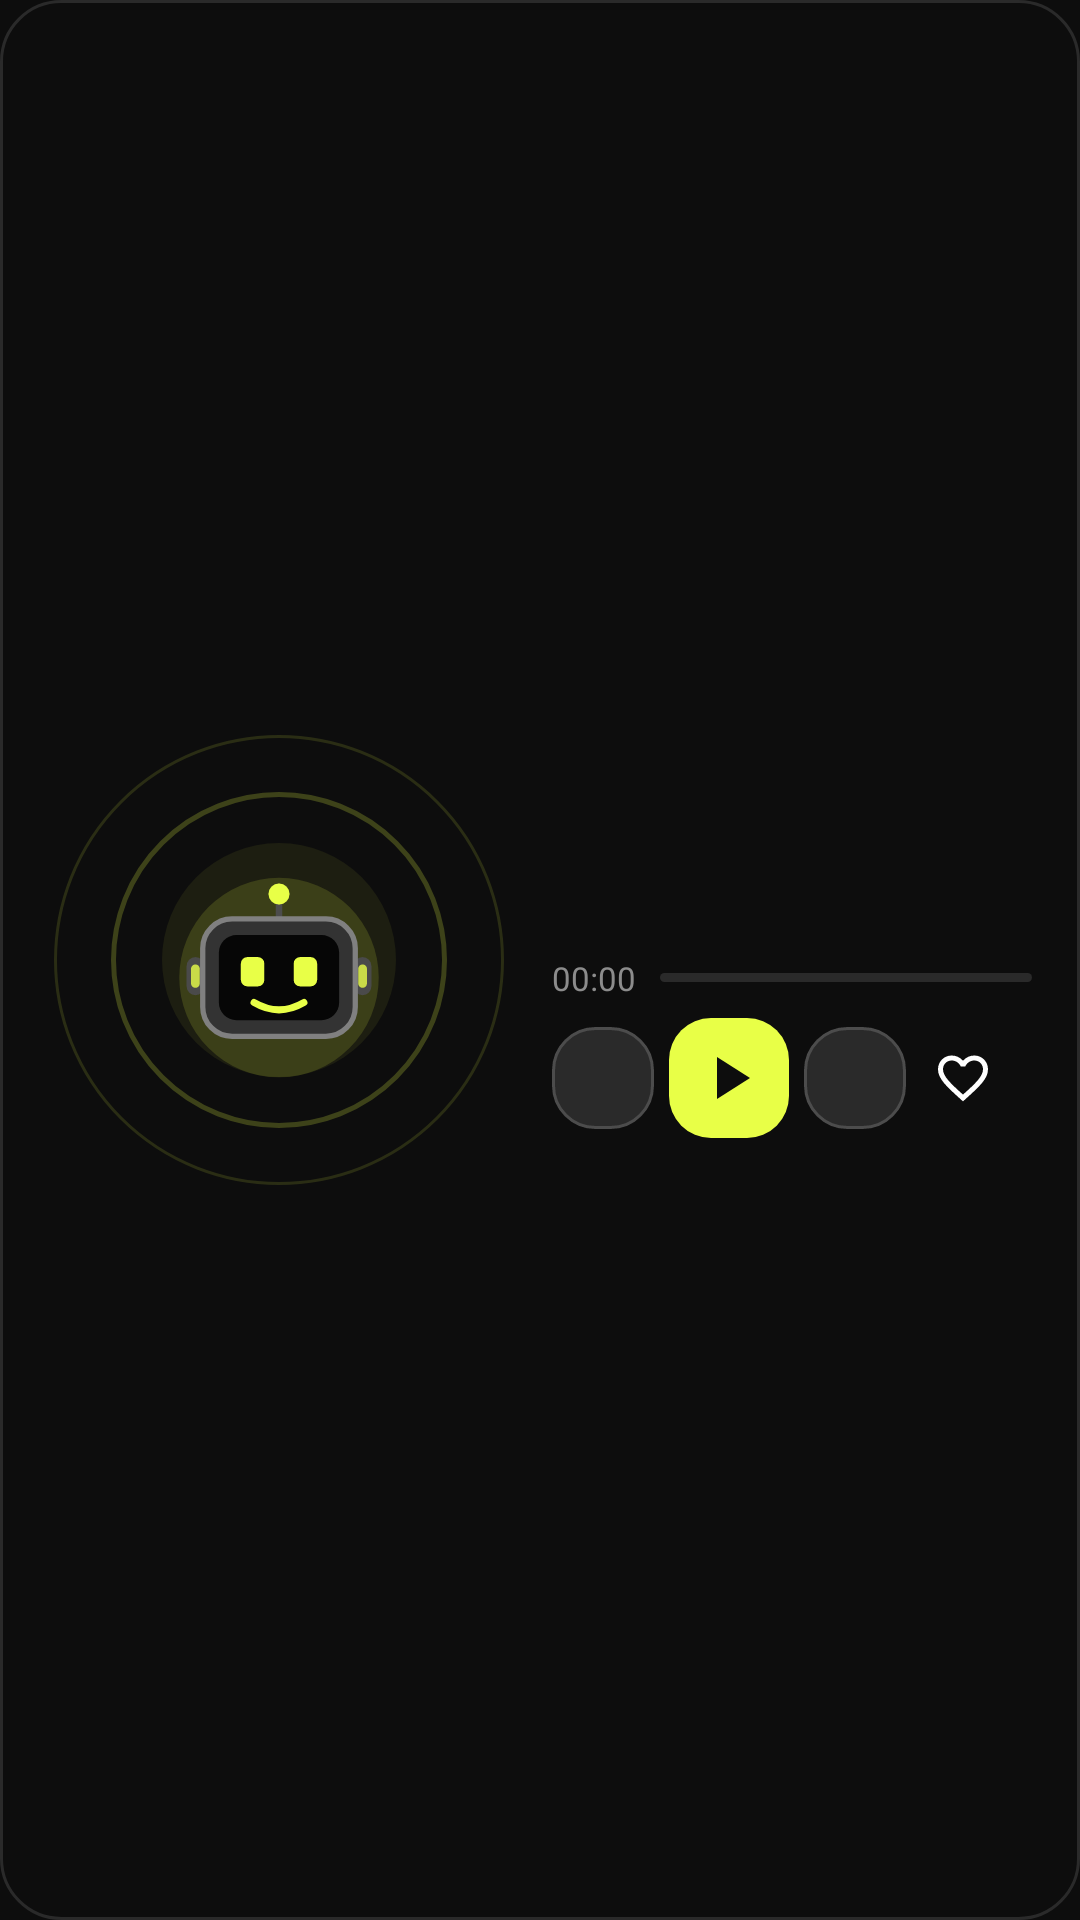

Where to tap for icons on this 1080px x 1920px app screen, as (x=x, y=y):
Favorite: (x=963, y=1078)
widget play: (x=729, y=1078)
